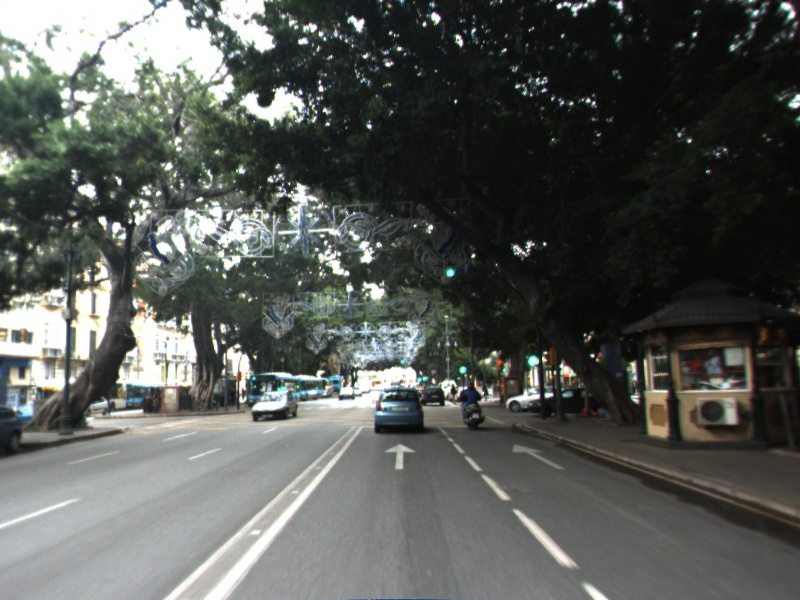STRAIGHT: (510, 442, 568, 471), (383, 441, 418, 471)
